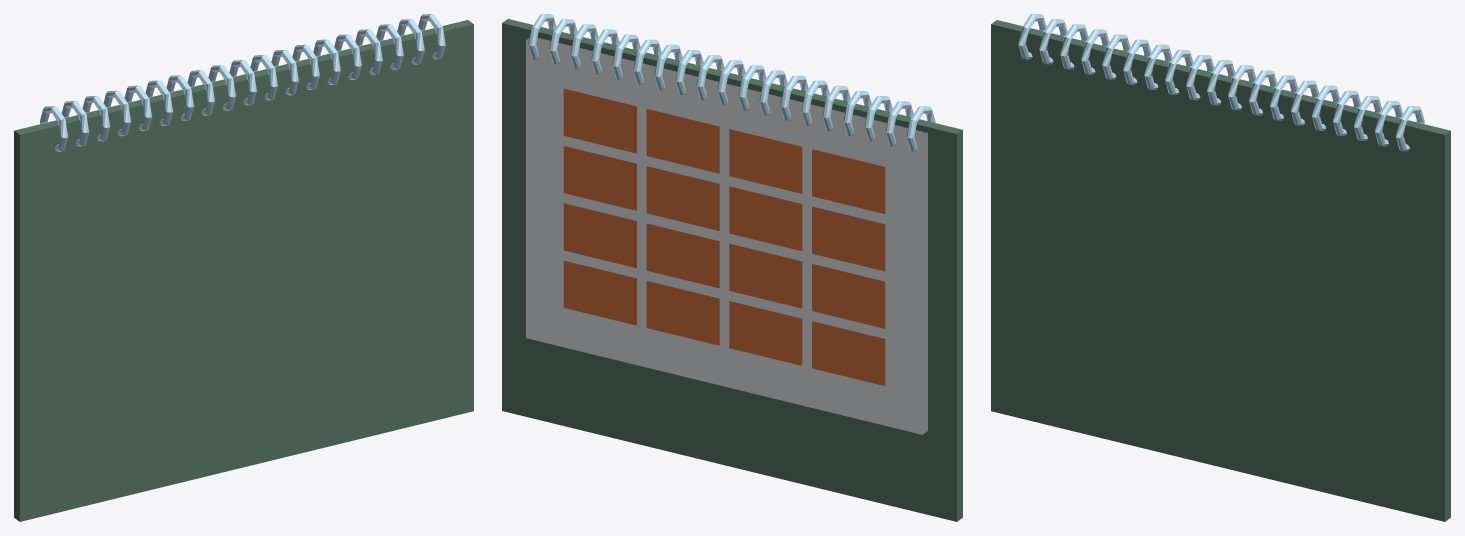
File: Calendar.fbx
The picture shows the model from 3 angles, left to right: view 1: azimuth 30°, elevation 25°; view 2: azimuth 150°, elevation 25°; view 3: azimuth 330°, elevation 25°; orthographic projection.
Parts seen in each view (by area): view 1: Circle.023; view 2: Circle.023; view 3: Circle.023.
Part boxes in pixels (x1,y1,x2,y2): Circle.023: [14, 14, 473, 521]; Circle.023: [502, 14, 962, 521]; Circle.023: [991, 14, 1450, 521].
Size of the model in its own units: 1.04 by 0.0982 by 0.8834.
